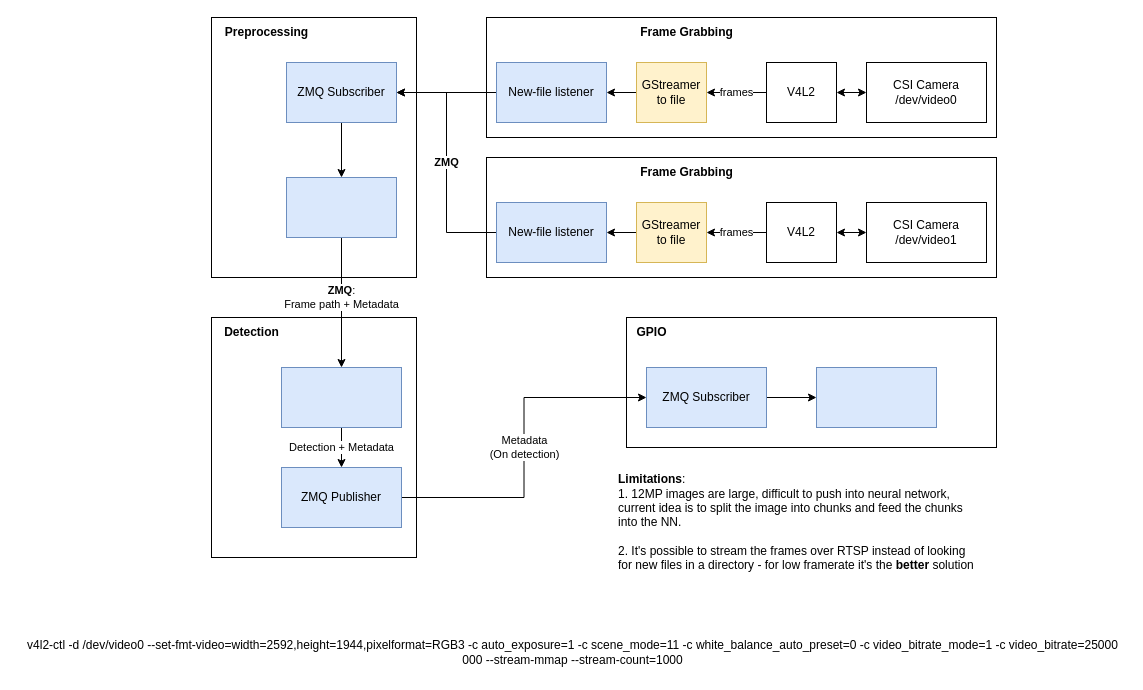
Image size: 1143x690. Some labels were removed from this diagram. The centre of each missing label's shape, as x and y in pixels:
"GPIO Handler" belongs at pixel 876 397.
"Preprocessing (Split, histogram...) TBD" belongs at pixel 341 207.
"YOLONAS or equivalent" belongs at pixel 341 397.
